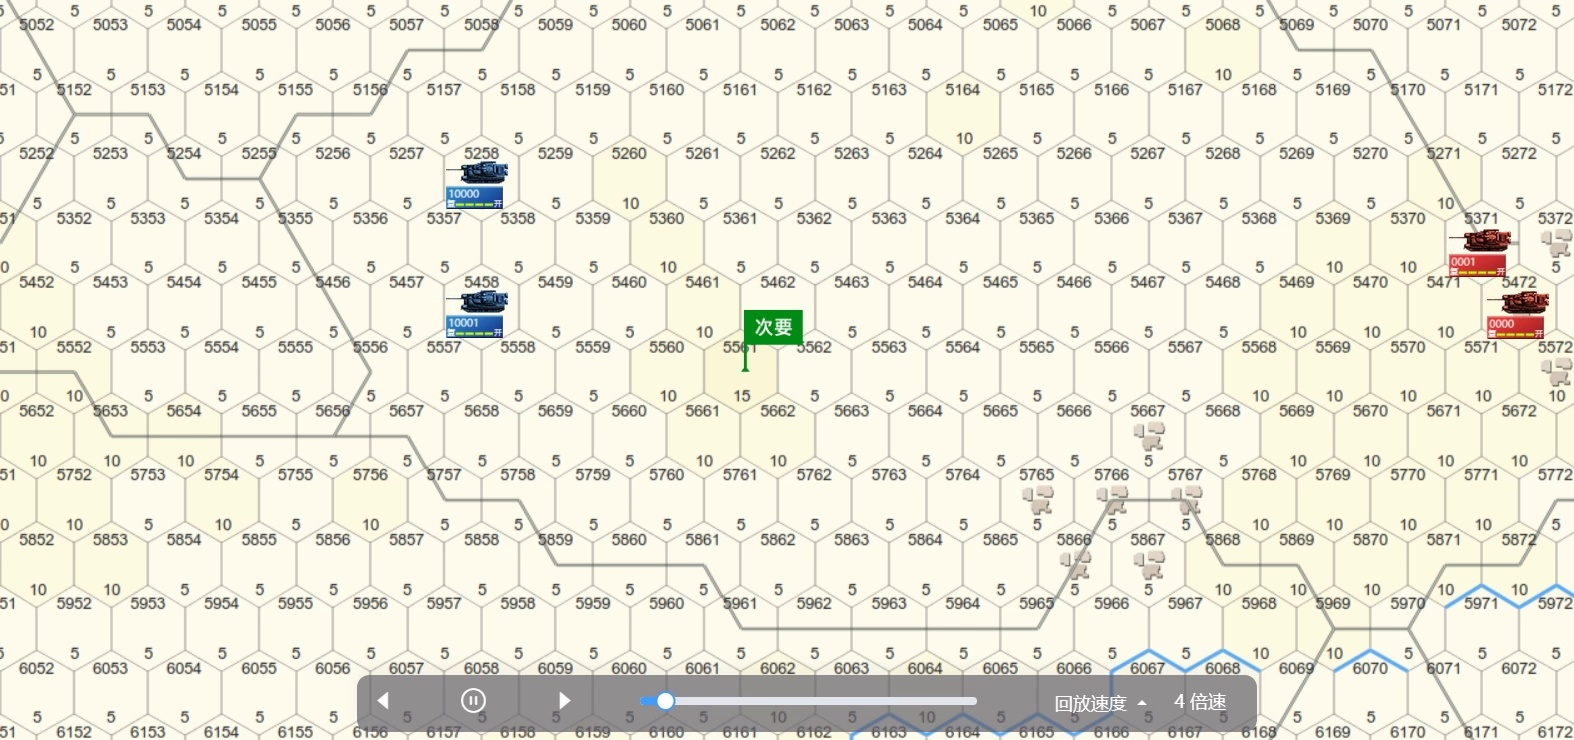blue_tank: (448, 287, 508, 343), (451, 161, 506, 207)
red_tank: (1489, 294, 1550, 341), (1460, 228, 1507, 279)
